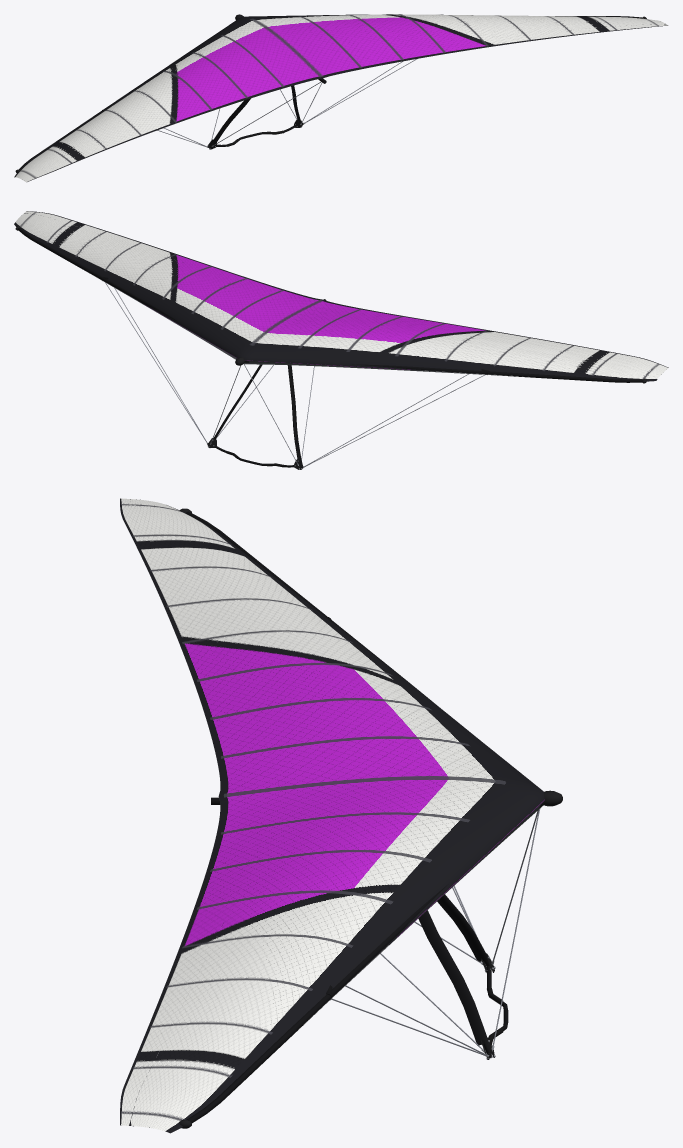
Rendered from glider_seed_spyder.glb.
3 views of the same model, one above another, from view 1: azimuth 30°, elevation 25°; view 2: azimuth 150°, elevation 25°; view 3: azimuth 270°, elevation 25° (orthographic). The views are drawn at different scales.
Visible parts, largest first — view 1: Sail, ControlFrame, Frame; view 2: Sail, ControlFrame, Frame; view 3: Sail, ControlFrame, Frame.
Part boxes in pixels (x1,y1,x2,y2): Sail: (14, 14, 668, 182); ControlFrame: (157, 58, 417, 149); Frame: (15, 14, 646, 173); Sail: (14, 211, 668, 381); ControlFrame: (105, 282, 484, 469); Frame: (15, 225, 646, 383); Sail: (120, 498, 544, 1133); ControlFrame: (331, 809, 539, 1059); Frame: (179, 508, 562, 1128).
Bounding box in the file's own units: 9.8 × 1.78 × 2.93.
8 materials, 1 textured.
